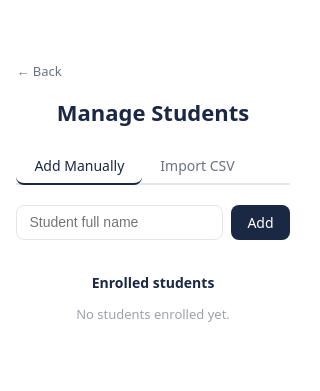
Test case: CourseStudentsView › shows error when adding a student fails
In the field with test id "manual-name-input": (120, 222) left=16, top=205, right=223, bottom=240, type "Bad Name"
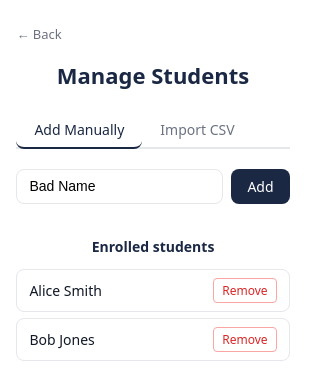
Submit the form with test id "add-student-form", box left=16, top=169, right=290, bottom=204
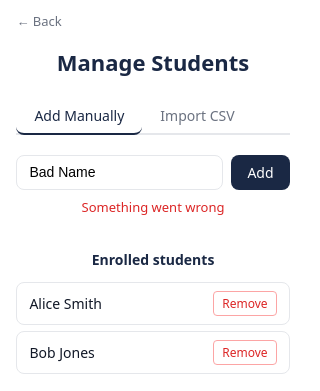
Expected: the text with test id "add-student-error" reads "Something went wrong", left=82, top=198, right=224, bottom=216
